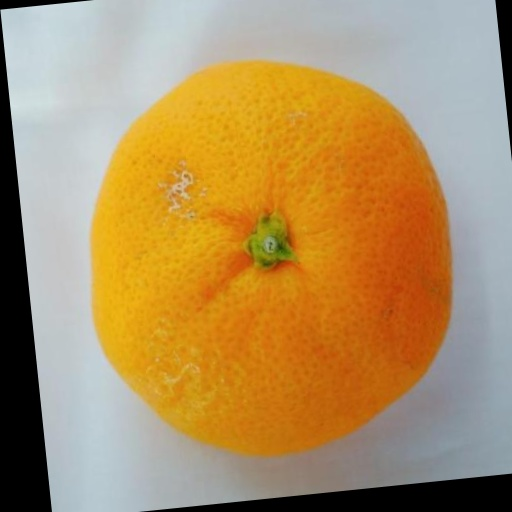fruit: (91, 62, 451, 454)
